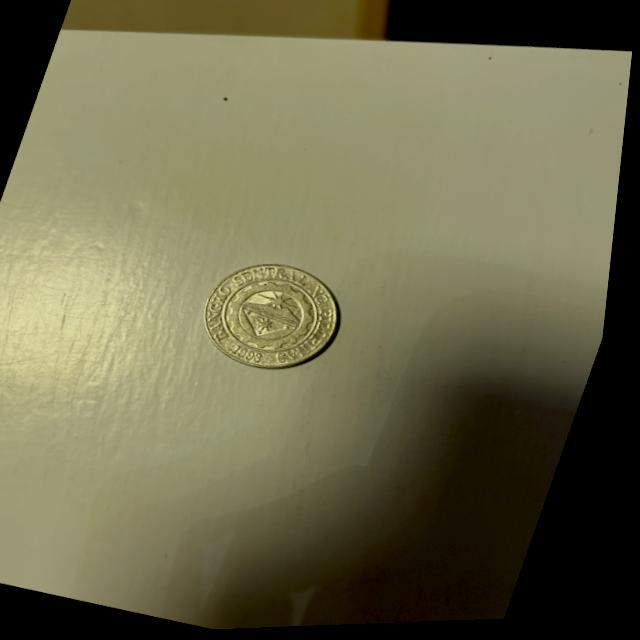1_Old_Back: (214, 267, 339, 367)
